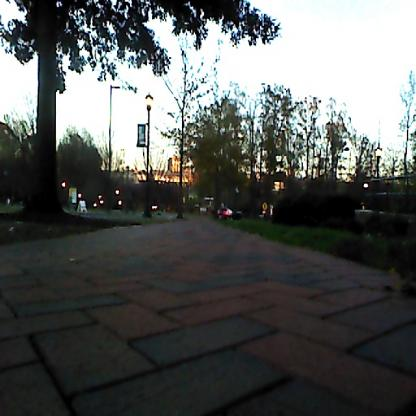Edge: (232, 220, 416, 313)
Sidewalk: (0, 218, 416, 416)
